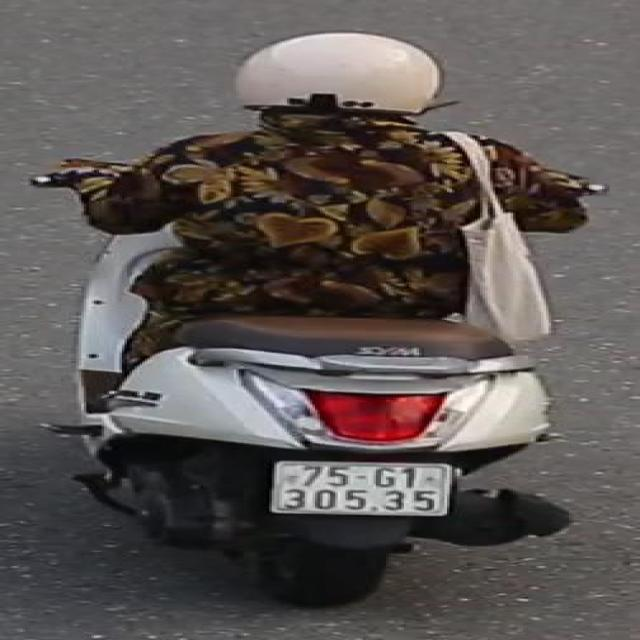LP: (264, 456, 467, 521)
helmet: (226, 24, 462, 148)
